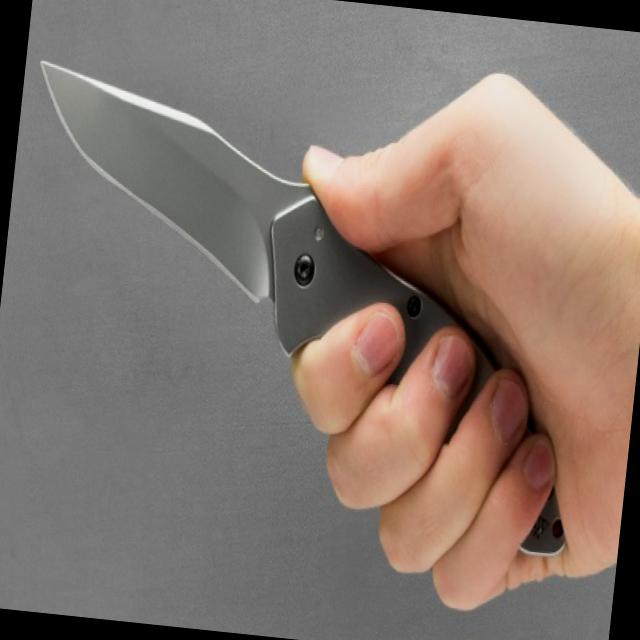knife: (0, 33, 508, 500)
